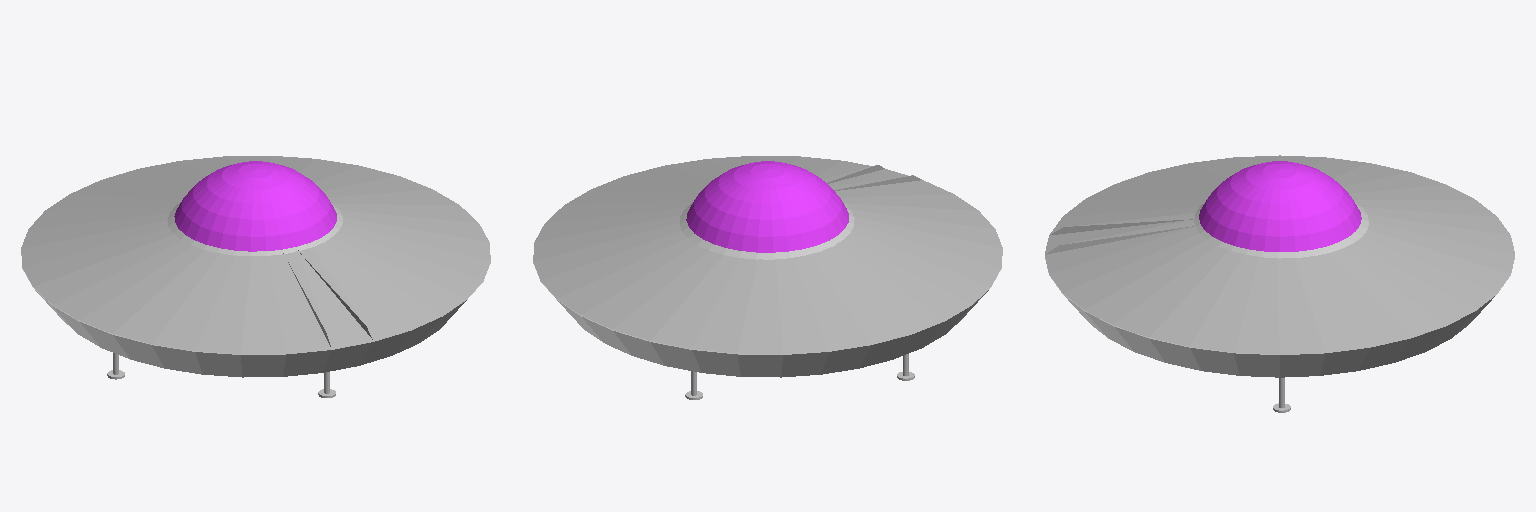
File: ufo.obj
3 views of the same model, side by side, from view 1: azimuth 30°, elevation 25°; view 2: azimuth 150°, elevation 25°; view 3: azimuth 270°, elevation 25° (orthographic).
Parts seen in each view (by area): view 1: Cylinder, Sphere, Cylinder.001, Cylinder.002; view 2: Cylinder, Sphere, Cylinder.001, Cylinder.002; view 3: Cylinder, Sphere, Cylinder.001, Cylinder.002.
Boxes of the visible parts, box(x1,y1,x2,y2) form: Cylinder: box(21, 156, 490, 353); Sphere: box(174, 161, 336, 251); Cylinder.001: box(21, 255, 490, 377); Cylinder.002: box(167, 202, 342, 255); Cylinder: box(533, 156, 1002, 353); Sphere: box(686, 161, 848, 252); Cylinder.001: box(533, 255, 1002, 377); Cylinder.002: box(679, 202, 854, 259); Cylinder: box(1045, 155, 1514, 353); Sphere: box(1199, 161, 1361, 251); Cylinder.001: box(1045, 259, 1514, 377); Cylinder.002: box(1194, 202, 1368, 258).
Size of the model in its own units: 15.39 by 6.24 by 15.39.